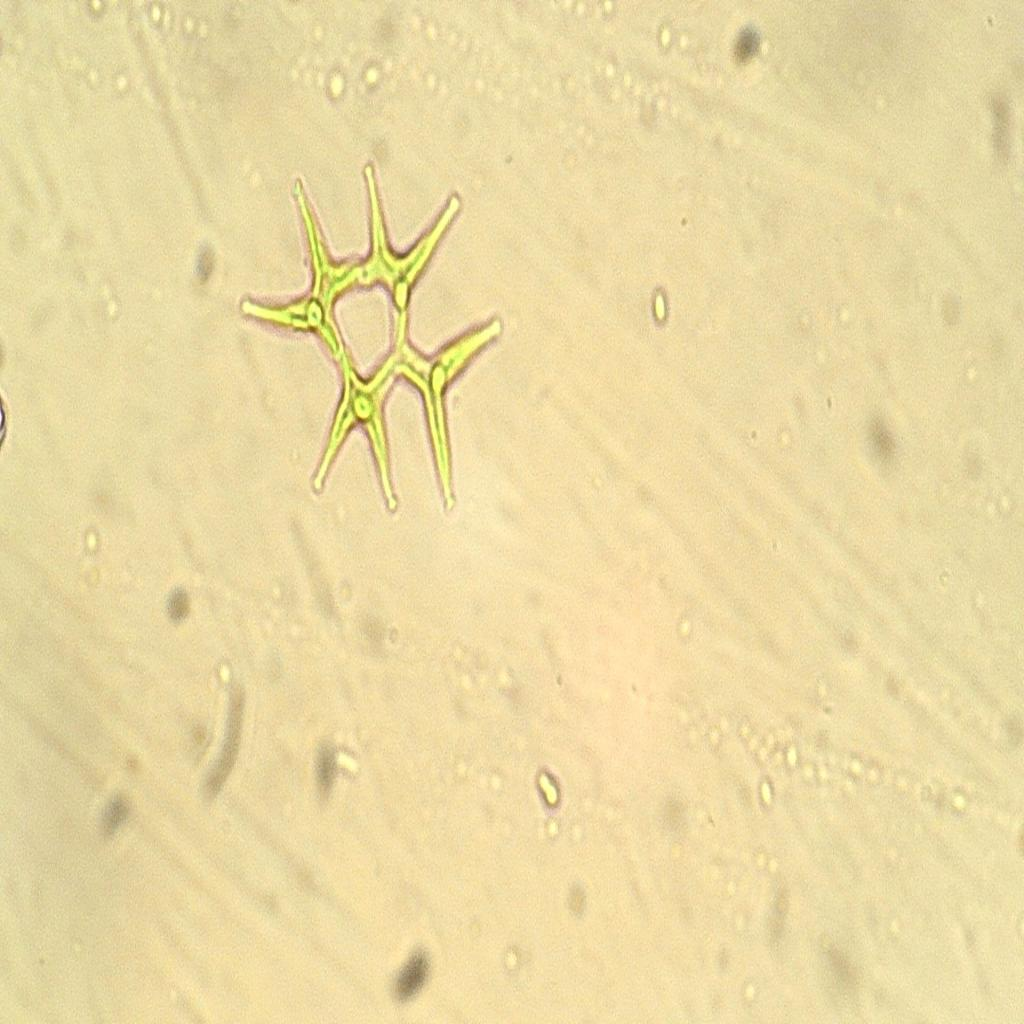Pediastrum_75FI: (232, 150, 520, 556)
